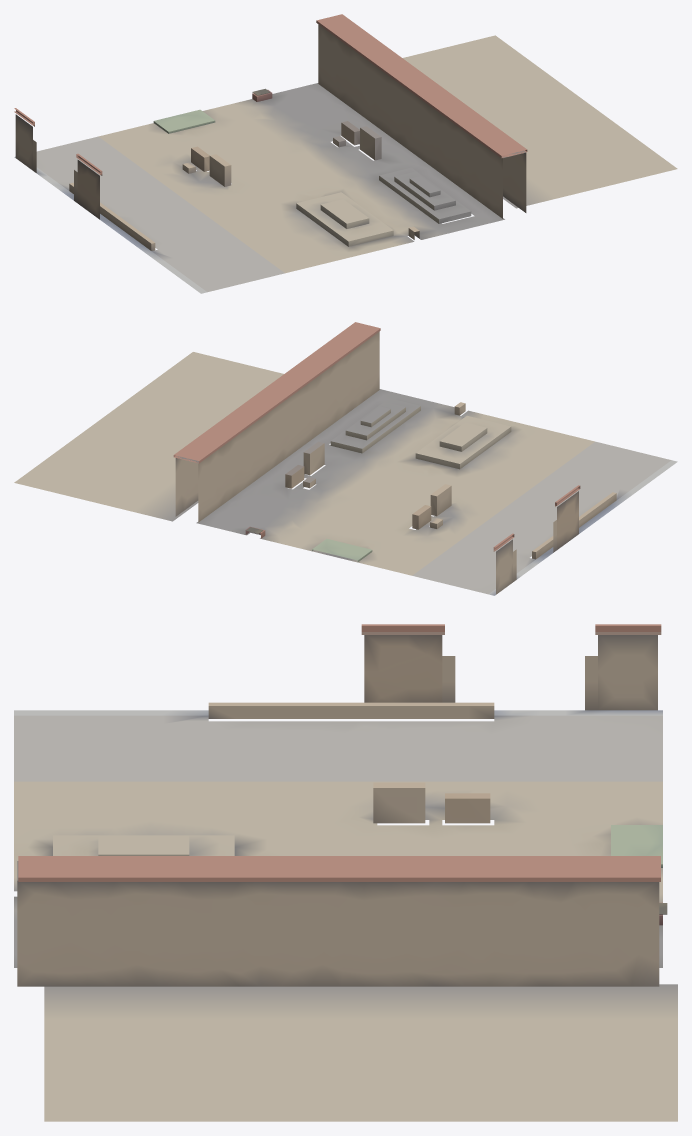
3 views of the same model, one above another, from view 1: azimuth 30°, elevation 25°; view 2: azimuth 150°, elevation 25°; view 3: azimuth 270°, elevation 25° (orthographic). The views are drawn at different scales.
Visible parts, largest first — view 1: t; view 2: t; view 3: t.
Part boxes in pixels (<box>): t: <box>14,14,677,293</box>; t: <box>14,322,677,595</box>; t: <box>14,624,677,1121</box>.
Bounding box in the file's own units: 75.1 × 9.35 × 51.16.
